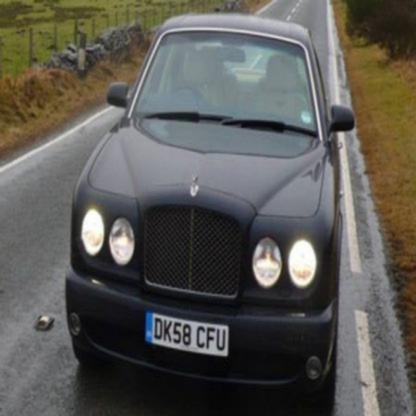Vehicle: (66, 14, 357, 413)
